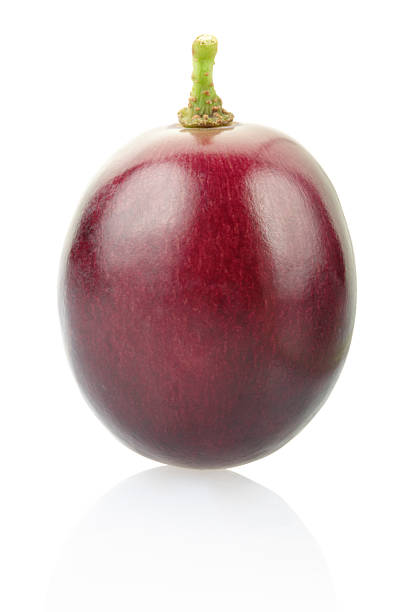grapes: (64, 22, 354, 485)
